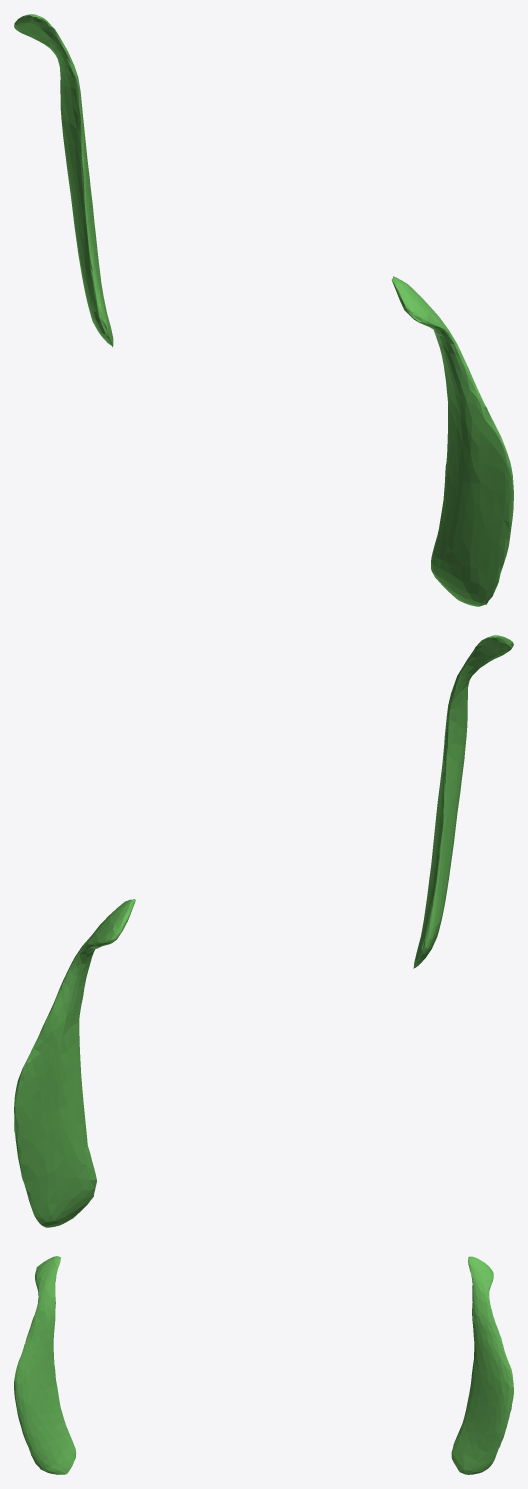
3 renders of one model, top to bottom at view 1: azimuth 30°, elevation 25°; view 2: azimuth 150°, elevation 25°; view 3: azimuth 270°, elevation 25°, orthographic. The views are drawn at different scales.
Visible parts, largest first — view 1: 743.obj; view 2: 743.obj; view 3: 743.obj.
Part boxes in pixels (bbox=[...]): 743.obj: bbox=[14, 14, 513, 606]; 743.obj: bbox=[14, 635, 513, 1227]; 743.obj: bbox=[14, 1256, 513, 1474].
Bounding box in the file's own units: 930 × 3411 × 7822.
